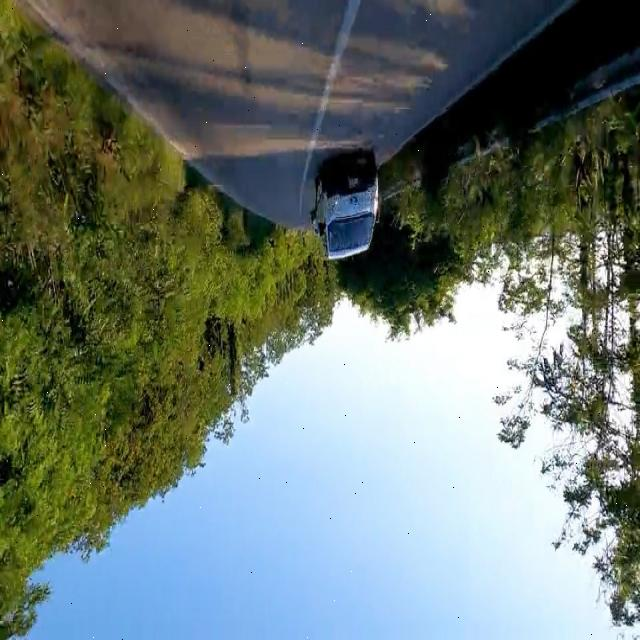lane: (300, 1, 361, 216)
road: (33, 2, 569, 228)
